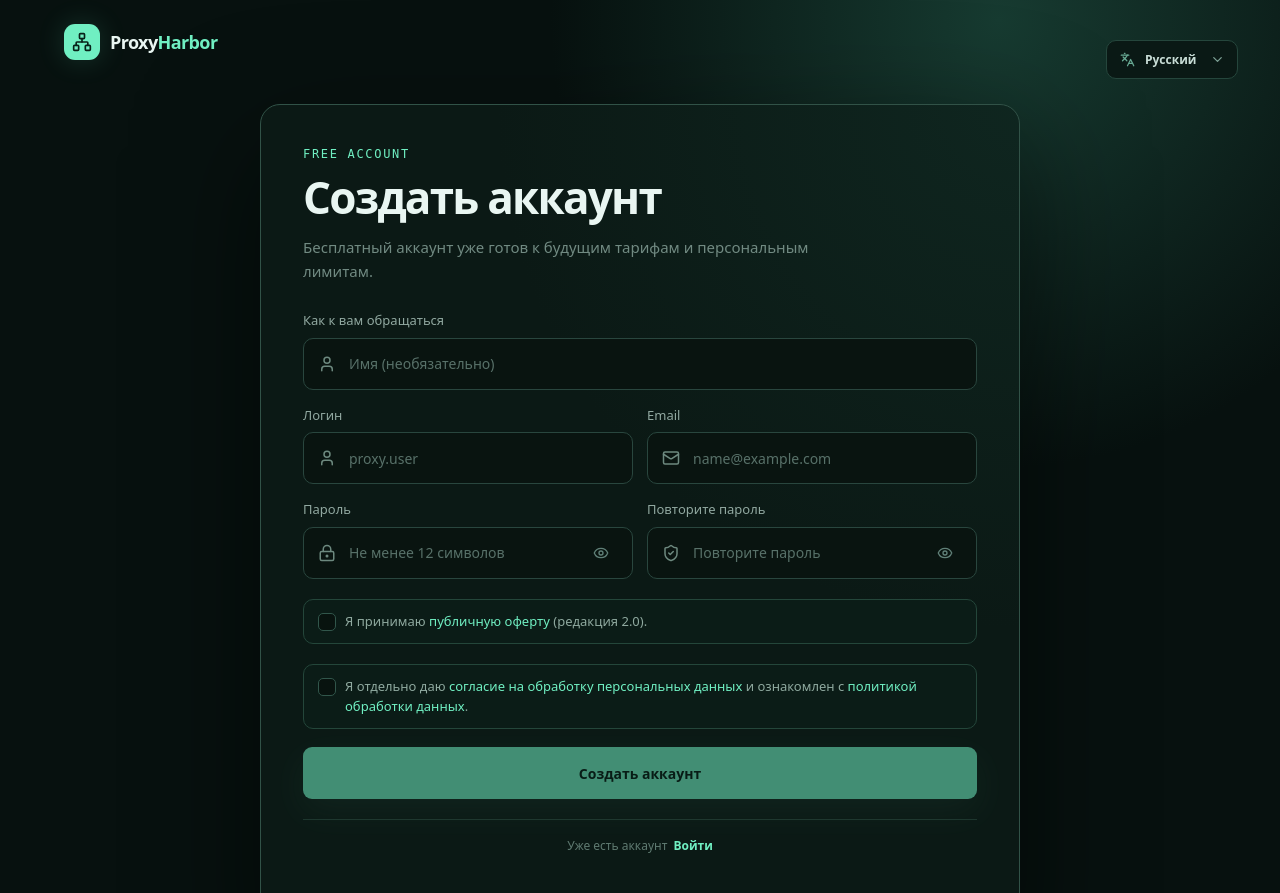
it: ProxyHarbor UI › requires separate offer acceptance and personal data consent before account creation
The width and height of the screenshot is (1280, 893).
expect the button "Создать аккаунт" is disabled: met, box 303,747 -> 977,799
Click the checkbox labelled "Я принимаю публичную оферту (редакция 2.0)." at (640, 621), box 303,599 -> 977,644
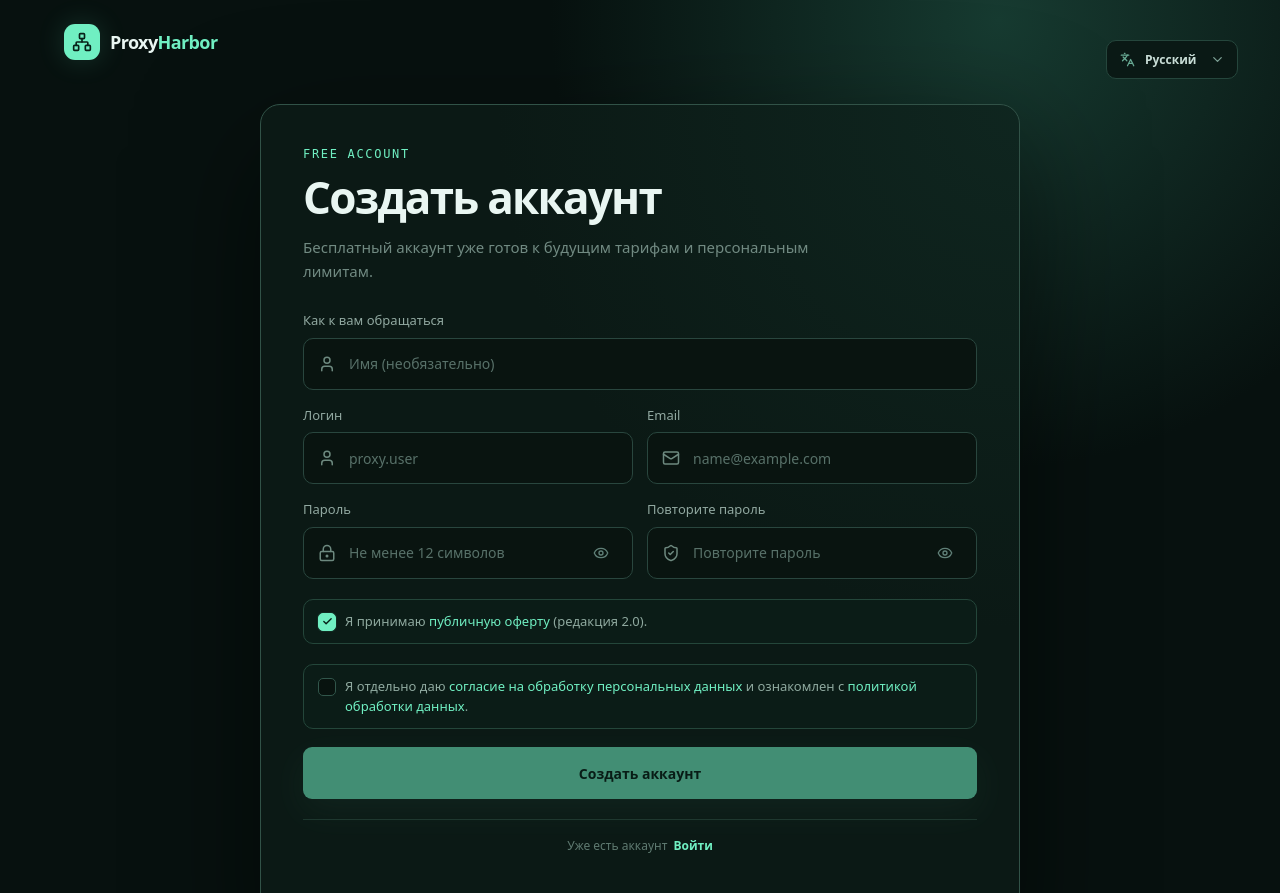
expect the button "Создать аккаунт" is disabled: met, box 303,747 -> 977,799
Click the checkbox labelled "Я отдельно даю" at (640, 697), box 303,664 -> 977,729
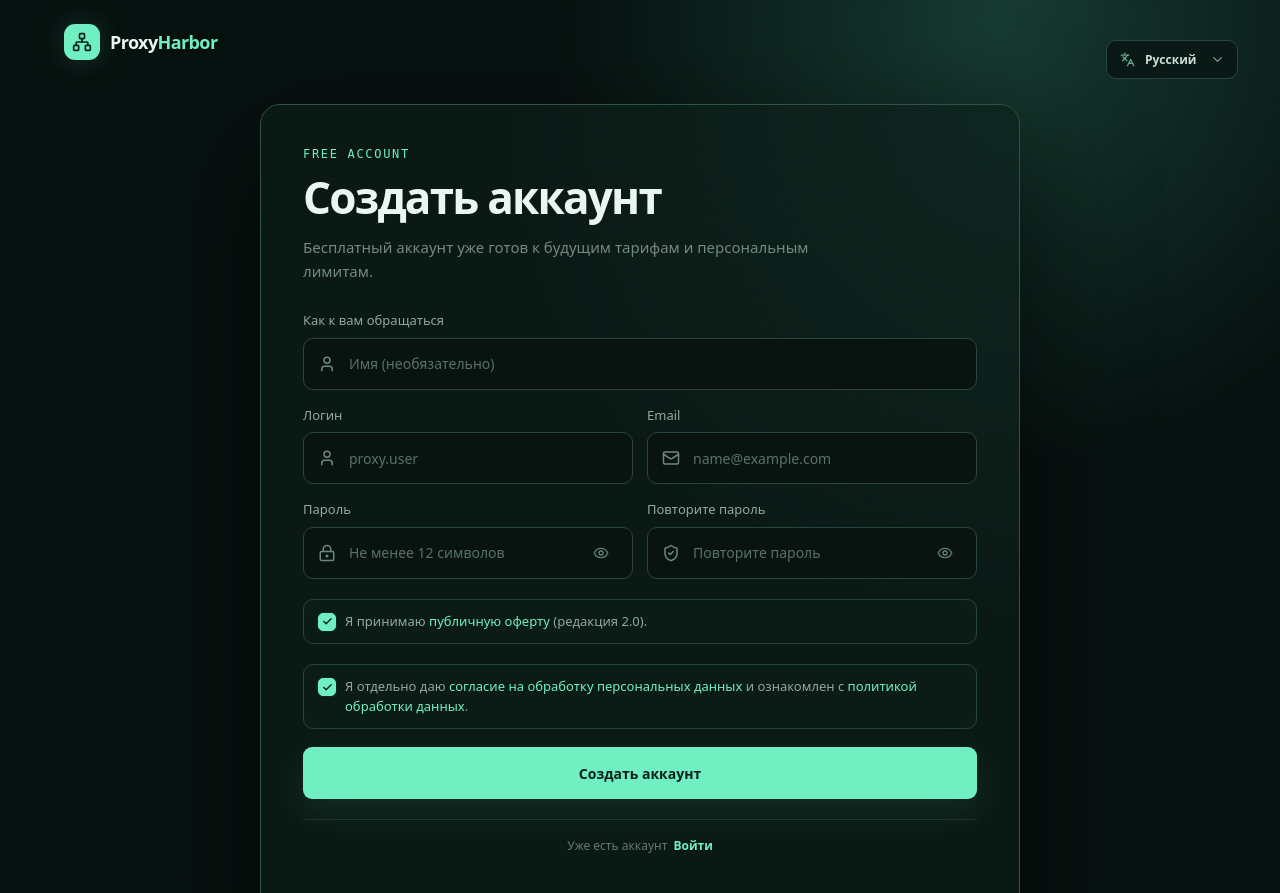
expect the button "Создать аккаунт" is enabled: met, box 303,747 -> 977,799
